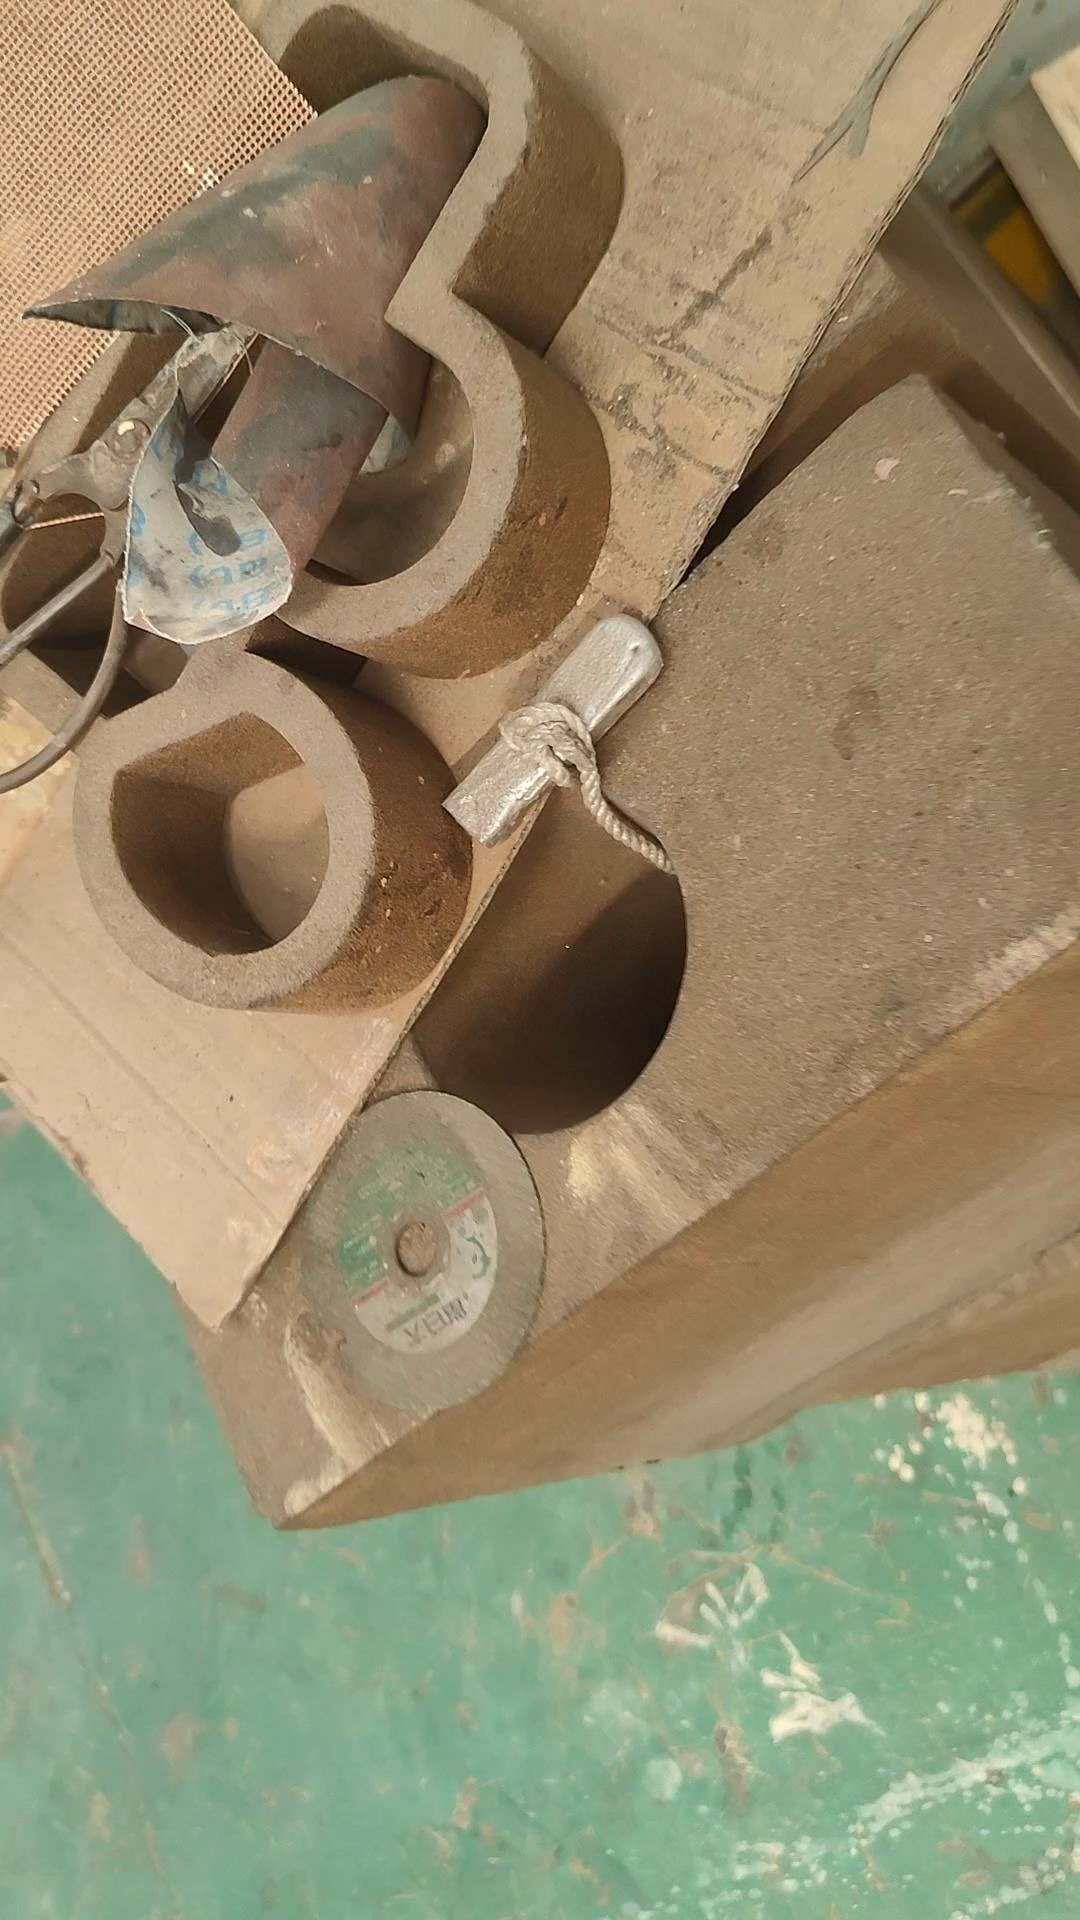pouring hole: (398, 785, 686, 1133)
